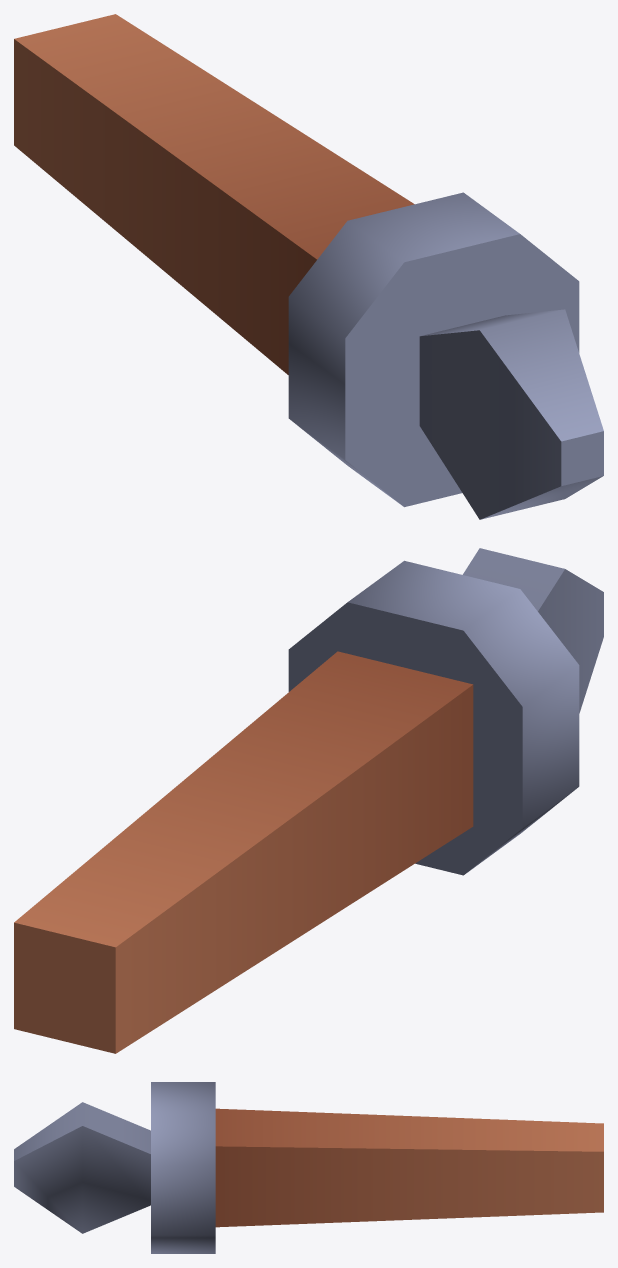
Rendered from weapon-arrow.glb.
3 views of the same model, one above another, from view 1: azimuth 30°, elevation 25°; view 2: azimuth 150°, elevation 25°; view 3: azimuth 270°, elevation 25° (orthographic). The views are drawn at different scales.
Visible parts, largest first — view 1: weapon-arrow; view 2: weapon-arrow; view 3: weapon-arrow.
Part boxes in pixels (<box>): weapon-arrow: <box>14,14,603,519</box>; weapon-arrow: <box>14,548,603,1053</box>; weapon-arrow: <box>14,1082,603,1253</box>.
Size of the model in its own units: 0.119 by 0.119 by 0.4559.
